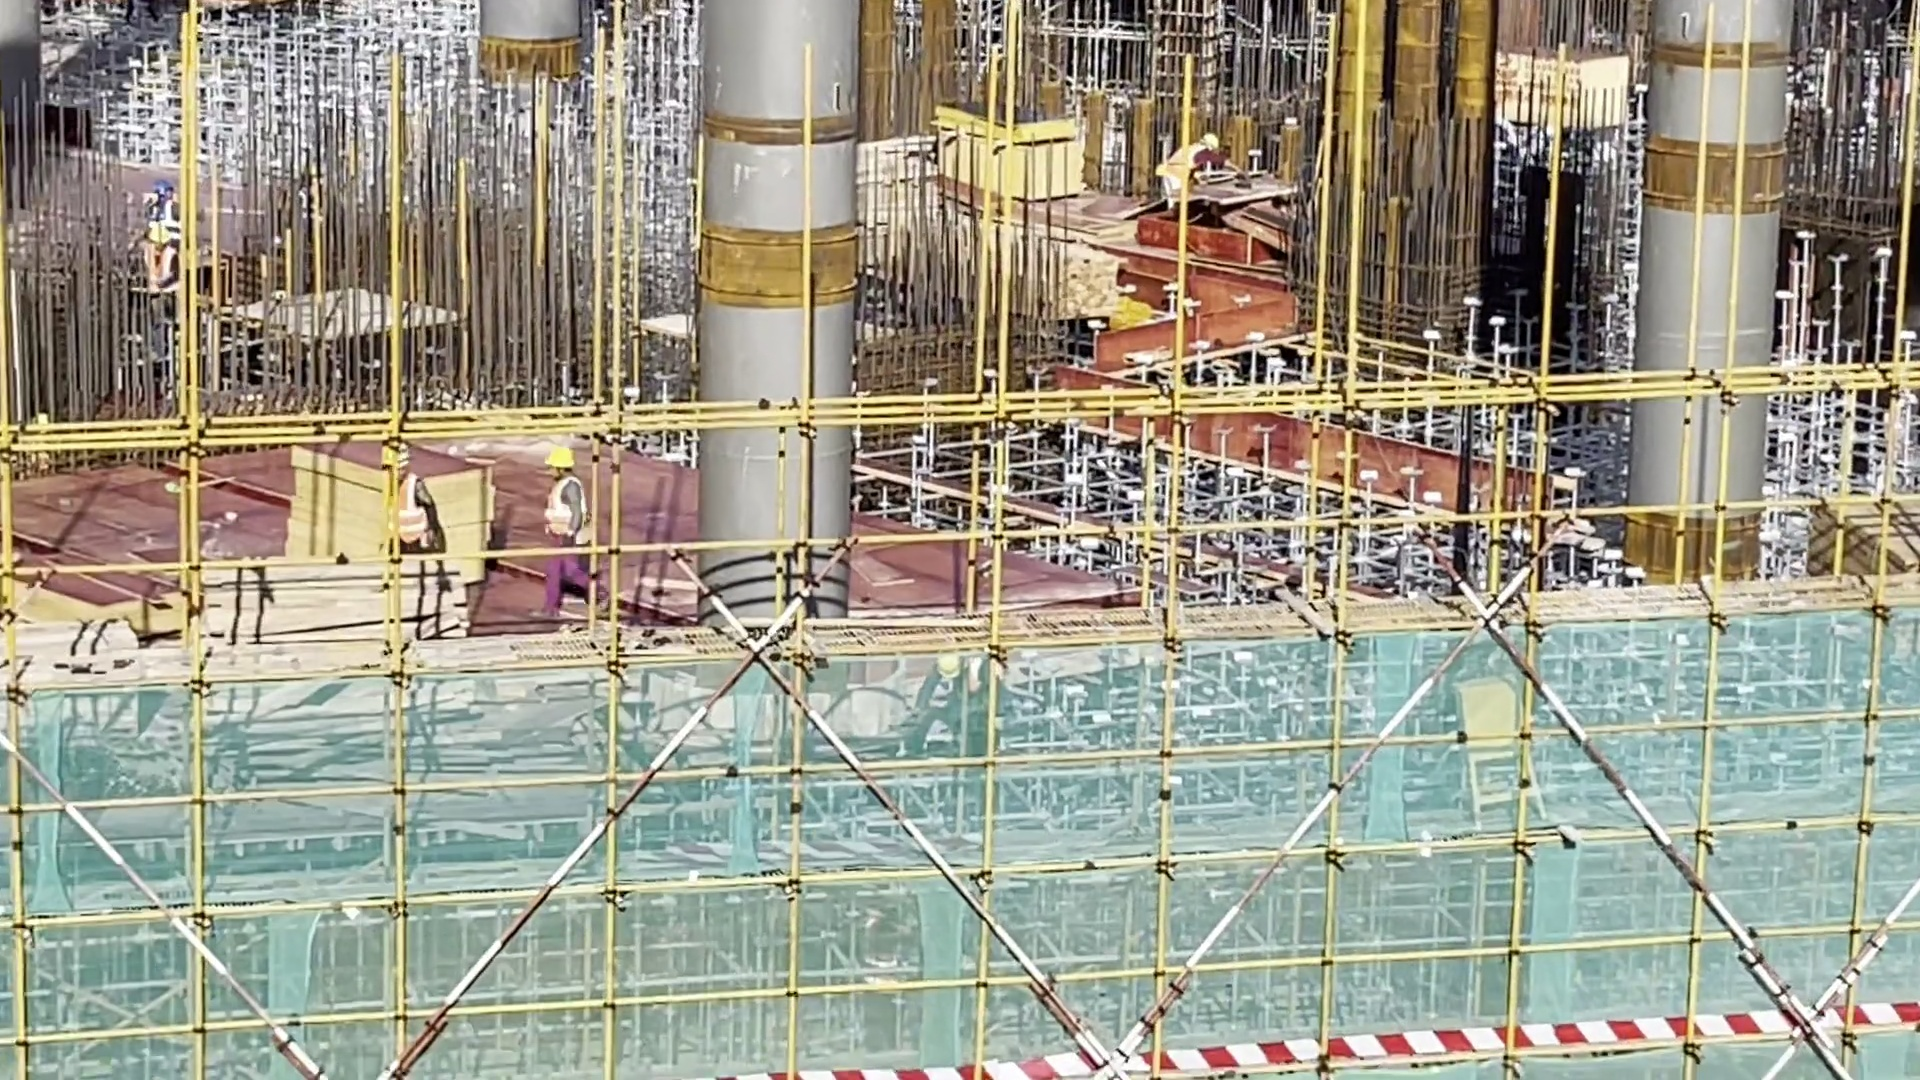ebox: (1441, 669, 1565, 814)
helmet: (538, 444, 584, 475), (374, 438, 411, 475), (129, 210, 164, 246), (148, 176, 184, 207), (1201, 130, 1222, 155)
person: (369, 441, 452, 594), (533, 443, 588, 616), (1160, 119, 1226, 229), (126, 206, 180, 317)
vest: (386, 478, 445, 546), (1161, 144, 1203, 198), (543, 478, 581, 535), (139, 247, 181, 285)
